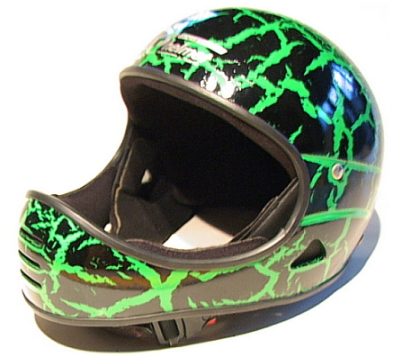helmet: (33, 12, 372, 298)
